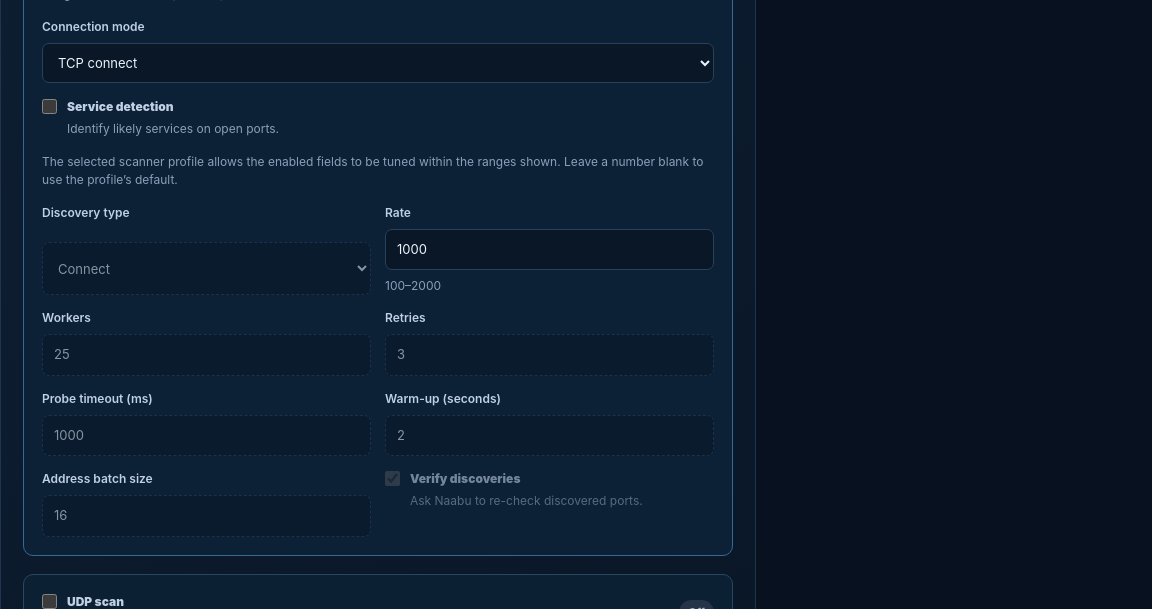
Test: job editor workflow coverage › uses the selected profile bounds and shows a rejected value next to its field
(page scrolled)
Expected: the label labelled "Rate 100–2000" is shown, [385,204,714,295]
Replace the text in the number field labelled "Rate 100–2000" with "1500" at (550, 249), box [385,229,714,270]
(page scrolled)
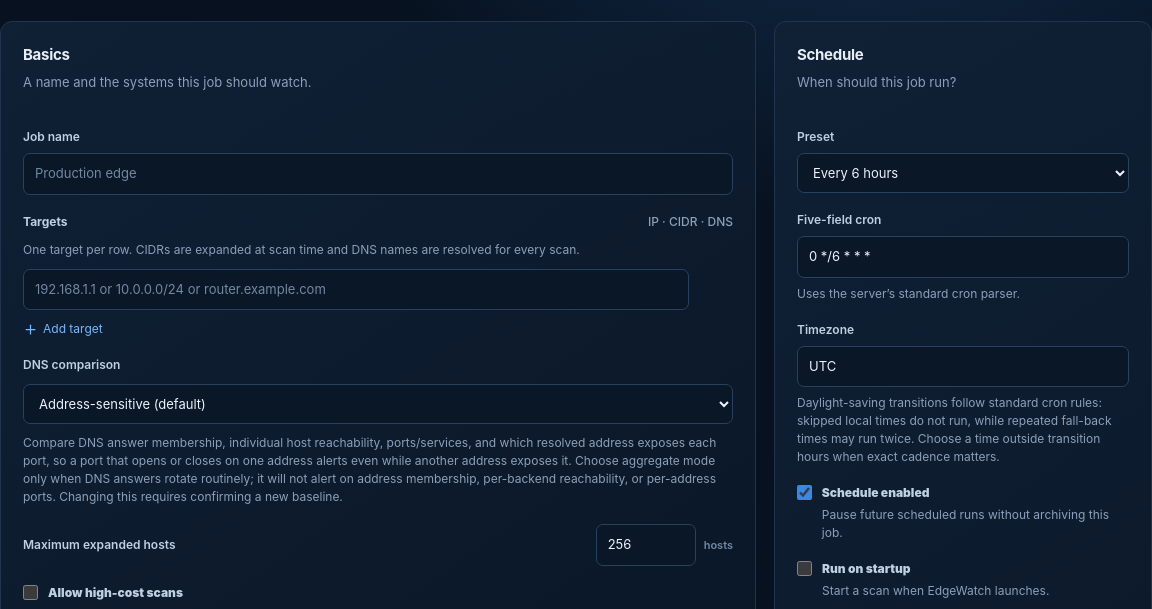
Type "Out of bounds" into the field labelled "Job name".
click(378, 174); type("Out of bounds")  # box [23,153,733,194]
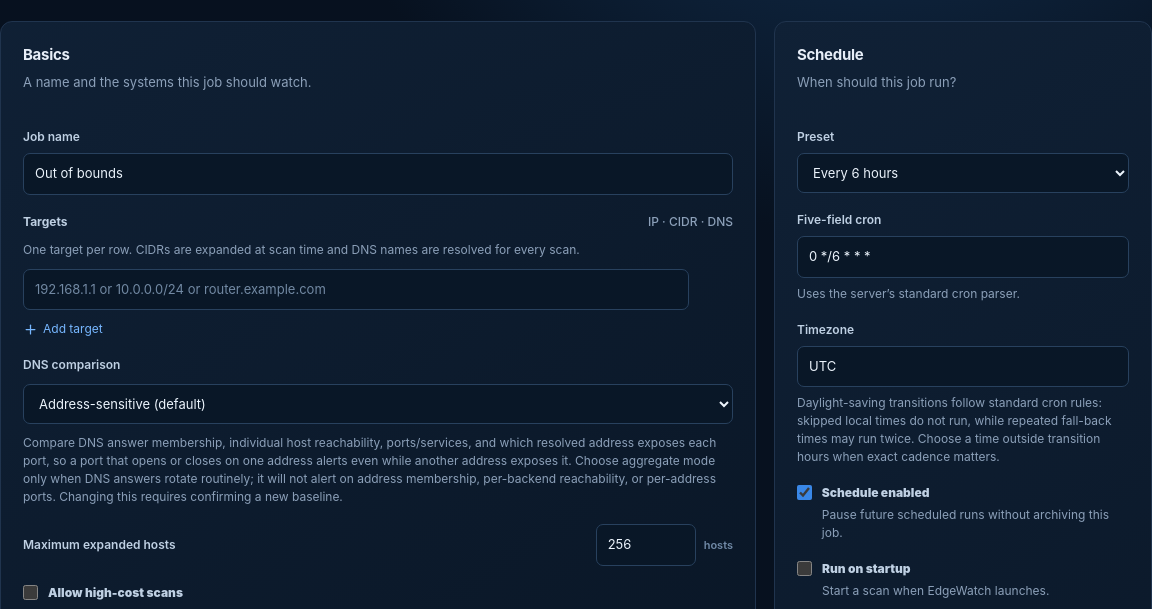
Type "198.51.100.10" into the field named "Target 1".
click(356, 289); type("198.51.100.10")  # box [23,268,689,310]
(page scrolled)
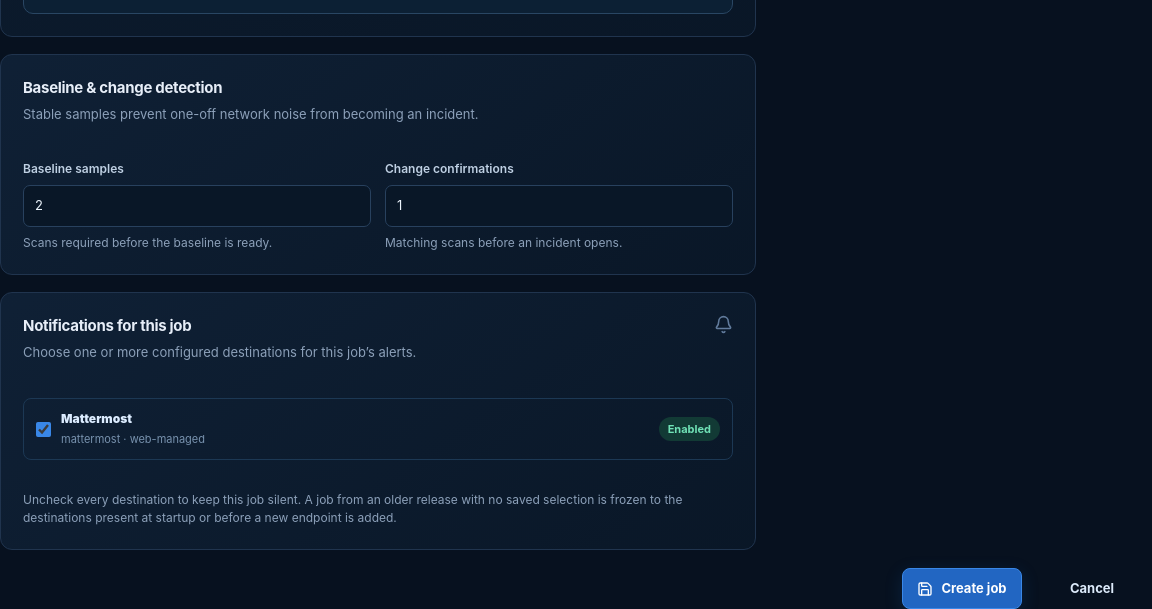
Click the button "Create job".
click(962, 589)  # box [902,568,1022,608]
(page scrolled)
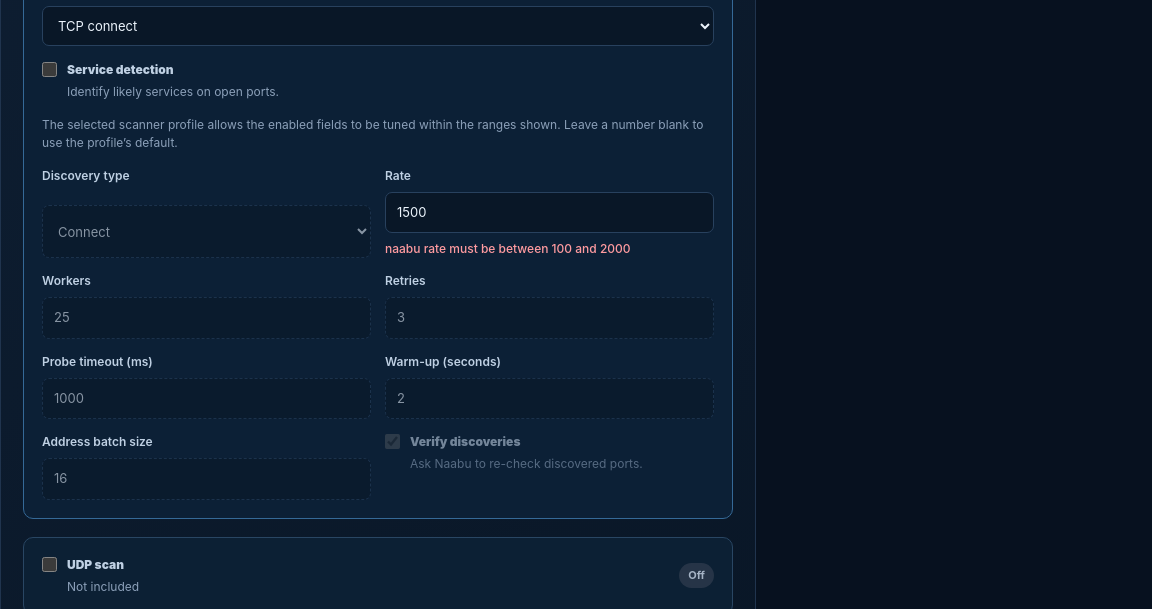
Expected: the text with class "field-error" reads "naabu rate must be between 100 and 2000", [385,241,631,256]
